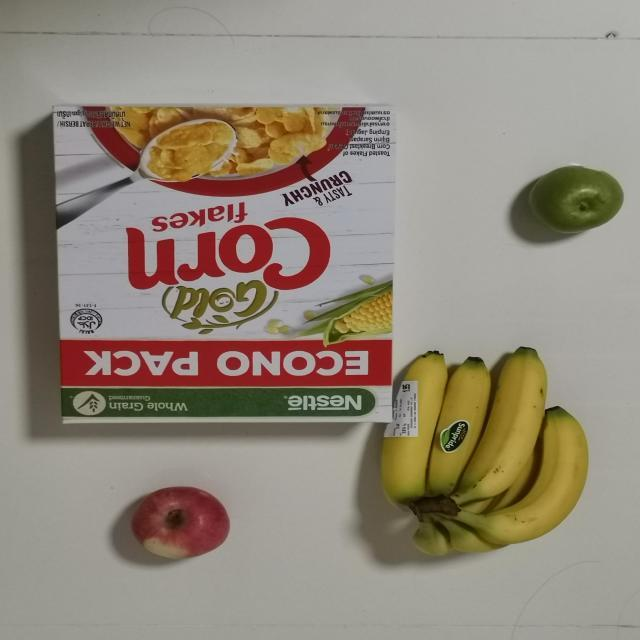Apple: (130, 486, 246, 564), (524, 164, 630, 236)
Banana: (383, 347, 587, 553)
Cerealbox: (45, 100, 399, 430)
